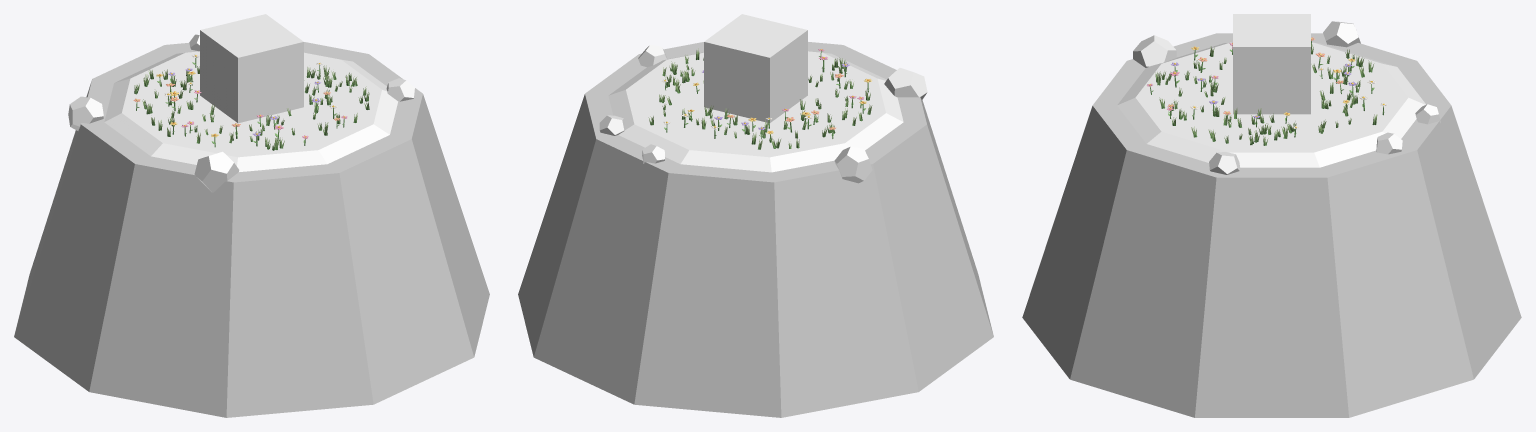
The model's file is Island.fbx.
The picture shows the model from 3 angles, left to right: view 1: azimuth 30°, elevation 25°; view 2: azimuth 150°, elevation 25°; view 3: azimuth 270°, elevation 25°; orthographic projection. The views are drawn at different scales.
Visible parts, largest first — view 1: Sand, Grass, BaseColumn, Foliage, Rock2, Rock4, Rock1; view 2: Sand, Grass, BaseColumn, Foliage, Rock4, Rock2, Rock1, Rock5; view 3: Sand, Grass, BaseColumn, Foliage, Rock2, Rock4, Rock1, Rock5.
Boxes of the visible parts, x1=… form: Sand: x1=14, y1=42, x2=489, y2=417; Grass: x1=104, y1=51, x2=398, y2=171; BaseColumn: x1=200, y1=14, x2=303, y2=123; Foliage: x1=133, y1=54, x2=369, y2=150; Rock2: x1=194, y1=151, x2=239, y2=192; Rock4: x1=68, y1=96, x2=103, y2=130; Rock1: x1=386, y1=78, x2=414, y2=101; Sand: x1=518, y1=42, x2=993, y2=417; Grass: x1=608, y1=51, x2=903, y2=172; BaseColumn: x1=704, y1=14, x2=807, y2=122; Foliage: x1=648, y1=48, x2=872, y2=149; Rock4: x1=834, y1=146, x2=872, y2=183; Rock2: x1=884, y1=68, x2=927, y2=99; Rock1: x1=638, y1=45, x2=667, y2=67; Rock5: x1=599, y1=115, x2=625, y2=135; Sand: x1=1022, y1=33, x2=1521, y2=417; Grass: x1=1117, y1=42, x2=1425, y2=167; BaseColumn: x1=1233, y1=14, x2=1310, y2=114; Foliage: x1=1147, y1=37, x2=1386, y2=145; Rock2: x1=1133, y1=35, x2=1176, y2=67; Rock4: x1=1323, y1=21, x2=1360, y2=47; Rock1: x1=1209, y1=152, x2=1240, y2=174; Rock5: x1=1376, y1=132, x2=1402, y2=154.
Bounding box in the file's own units: 6.09 × 4.06 × 6.4.
